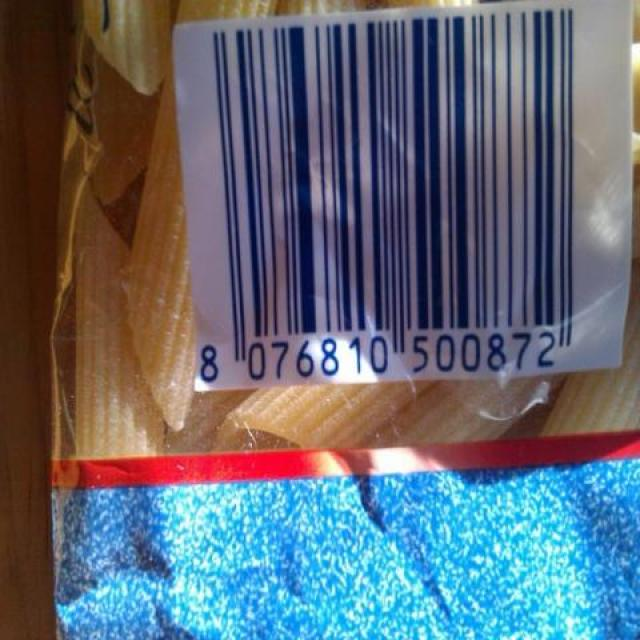Barcode: (178, 4, 613, 393)
